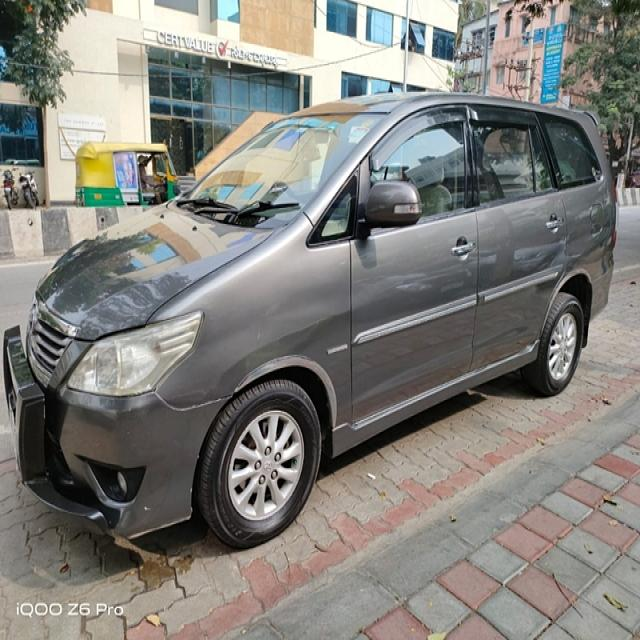light_vehicle: (3, 90, 619, 550)
